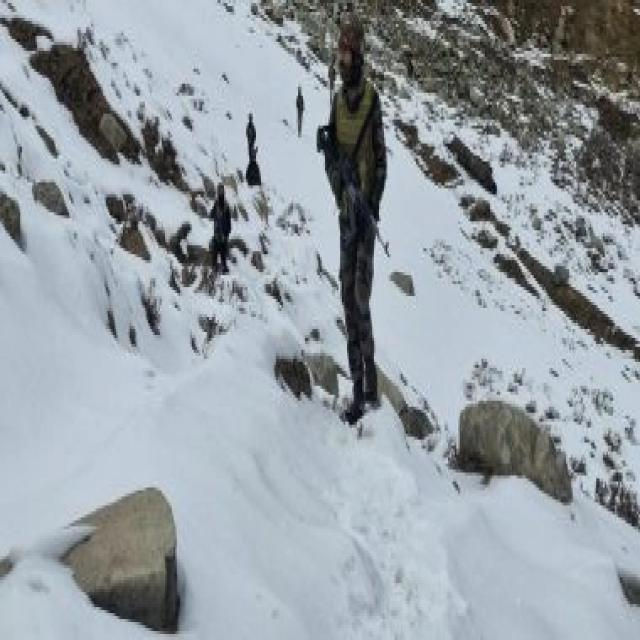Militant: (306, 12, 428, 469), (195, 156, 240, 309), (234, 103, 280, 219), (284, 71, 311, 170)
